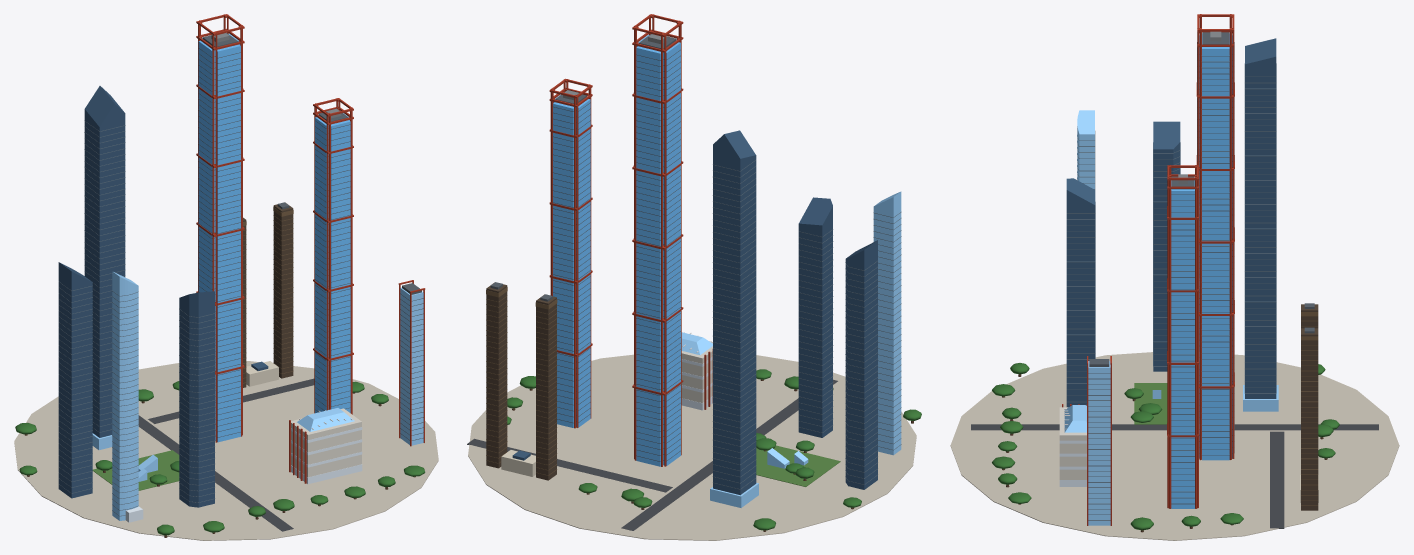
File: parc1-ifc.glb
3 views of the same model, side by side, from view 1: azimuth 30°, elevation 25°; view 2: azimuth 150°, elevation 25°; view 3: azimuth 270°, elevation 25° (orthographic). The views are drawn at different scales.
Size of the model in its own units: 314 by 333 by 314.
